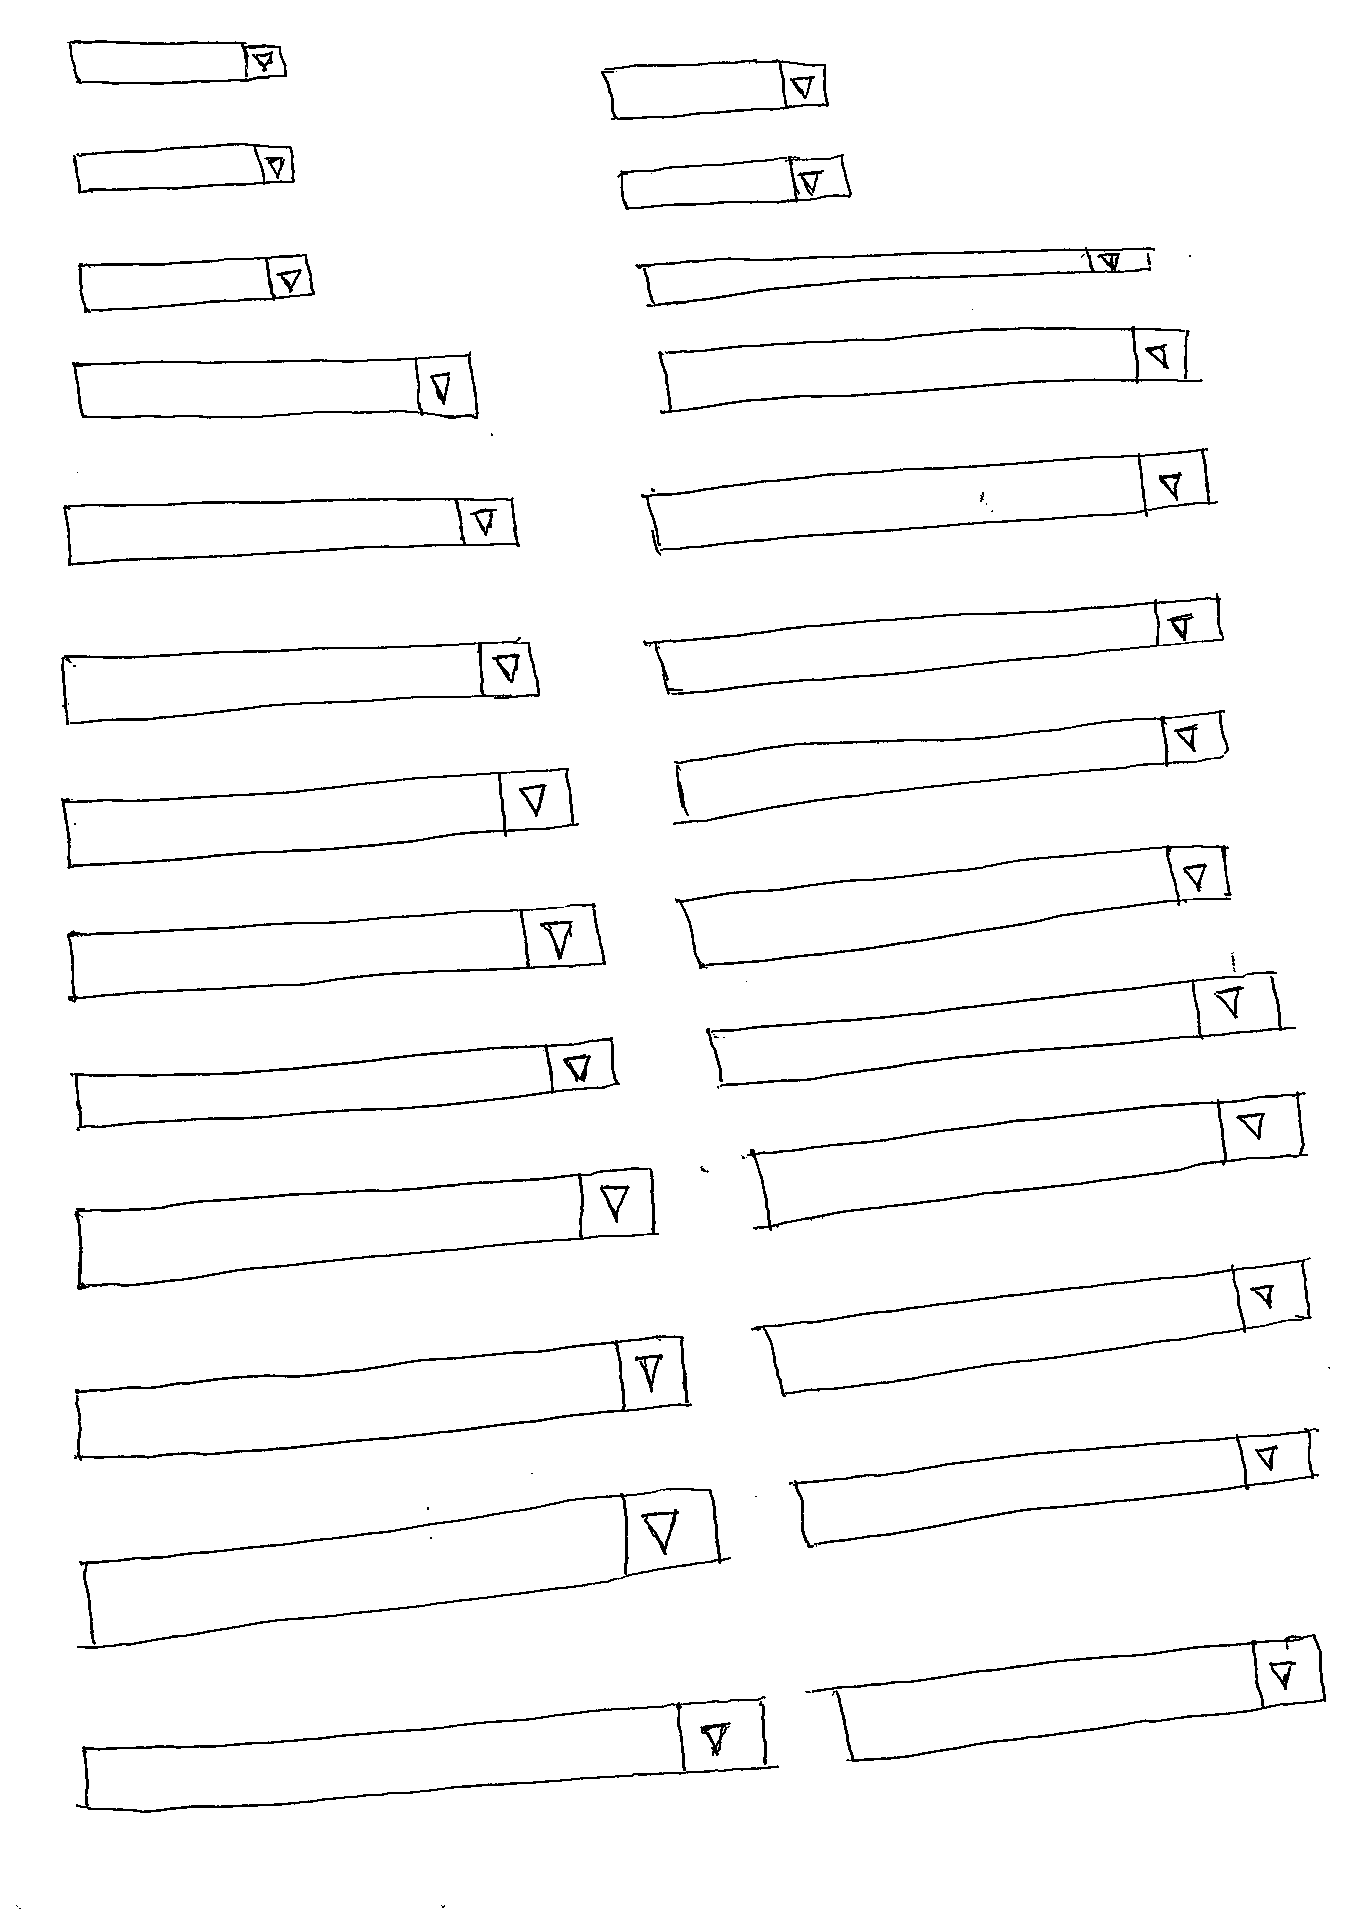Select: (80, 1483, 723, 1649), (78, 1690, 770, 1816), (69, 1332, 687, 1462), (752, 1090, 1307, 1235), (752, 1255, 1313, 1394), (72, 1164, 659, 1292), (676, 841, 1234, 974), (707, 965, 1282, 1093), (673, 710, 1229, 829), (792, 1425, 1314, 1552), (831, 1634, 1331, 1765), (642, 444, 1214, 553), (646, 593, 1226, 699), (62, 763, 575, 872), (65, 903, 609, 1005), (69, 1036, 618, 1131), (655, 324, 1192, 420), (58, 639, 546, 730), (636, 242, 1158, 310), (58, 492, 519, 569), (69, 350, 482, 424), (75, 251, 318, 315), (596, 59, 829, 124), (618, 154, 853, 214), (65, 35, 291, 89), (69, 142, 296, 195)
